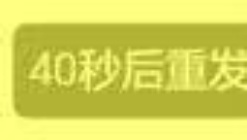Button: (1, 1, 246, 139)
